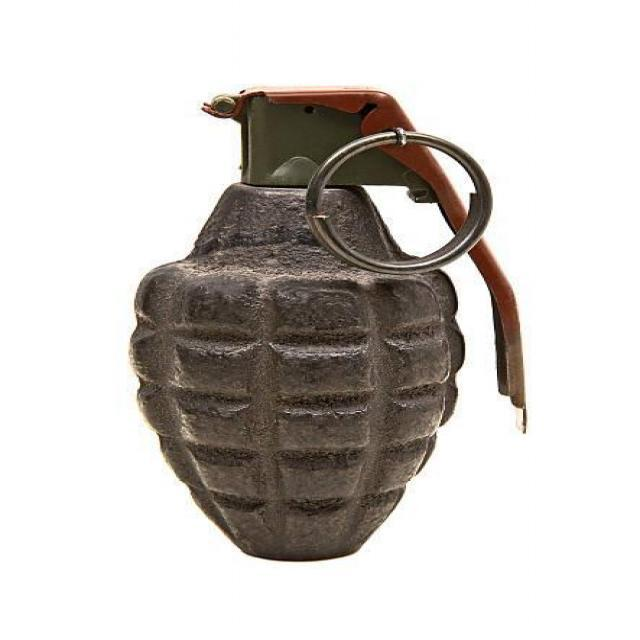Grenade: (127, 85, 529, 560)
